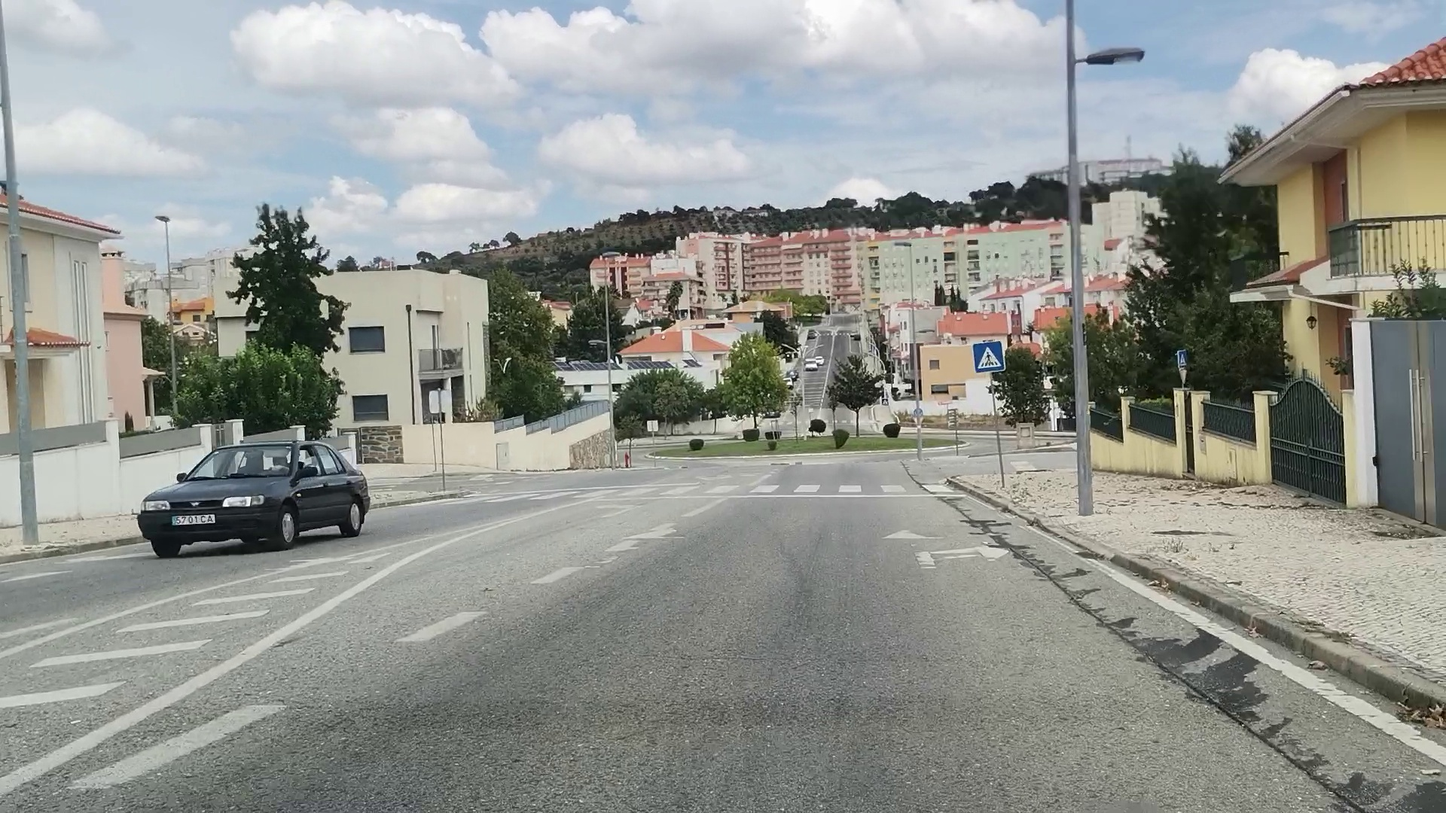Stairs: (416, 482, 953, 505)
